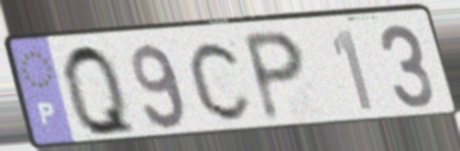1: (330, 26, 376, 113)
3: (378, 21, 436, 110)
9: (128, 40, 189, 131)
C: (186, 37, 256, 124)
P: (239, 27, 309, 125)
Q: (59, 40, 142, 140)
